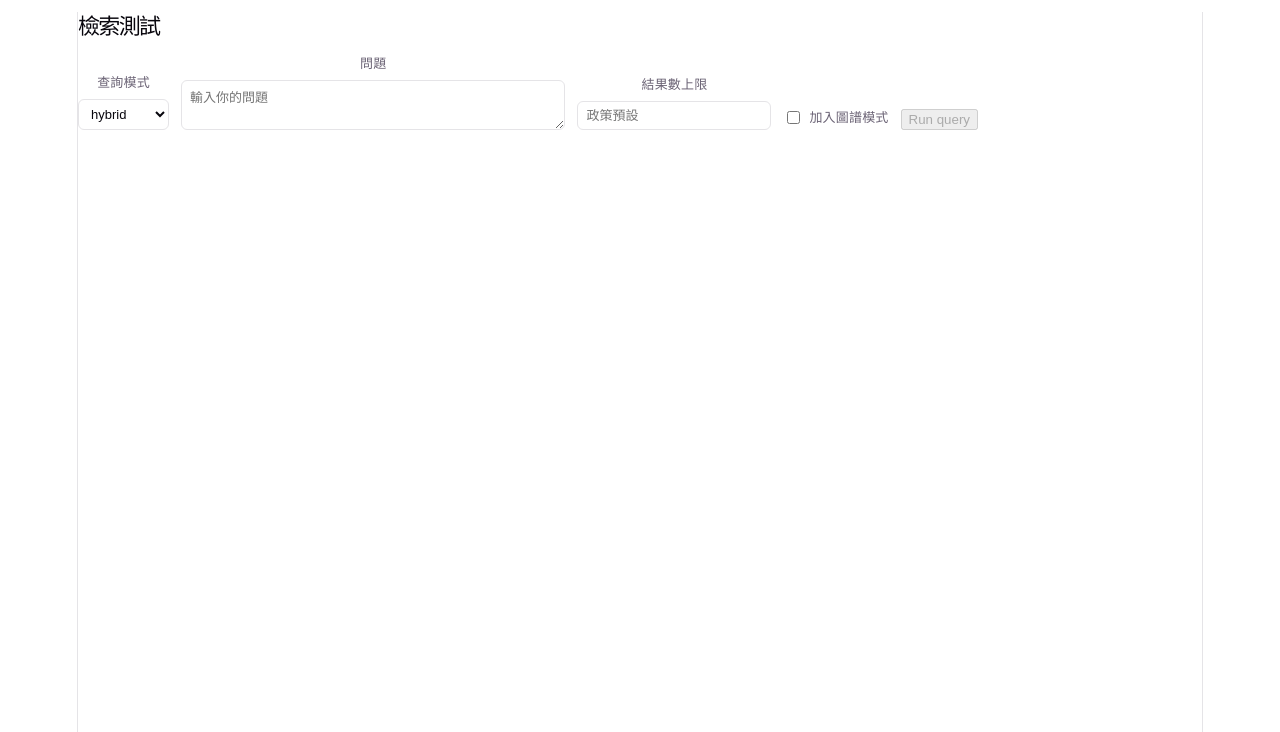
Test: Playground › renders a degraded result (warnings, no rows) as warnings, not an empty state
Type "slow" into the text box labelled "問題". click: (373, 105)
box: [181,80,565,130]
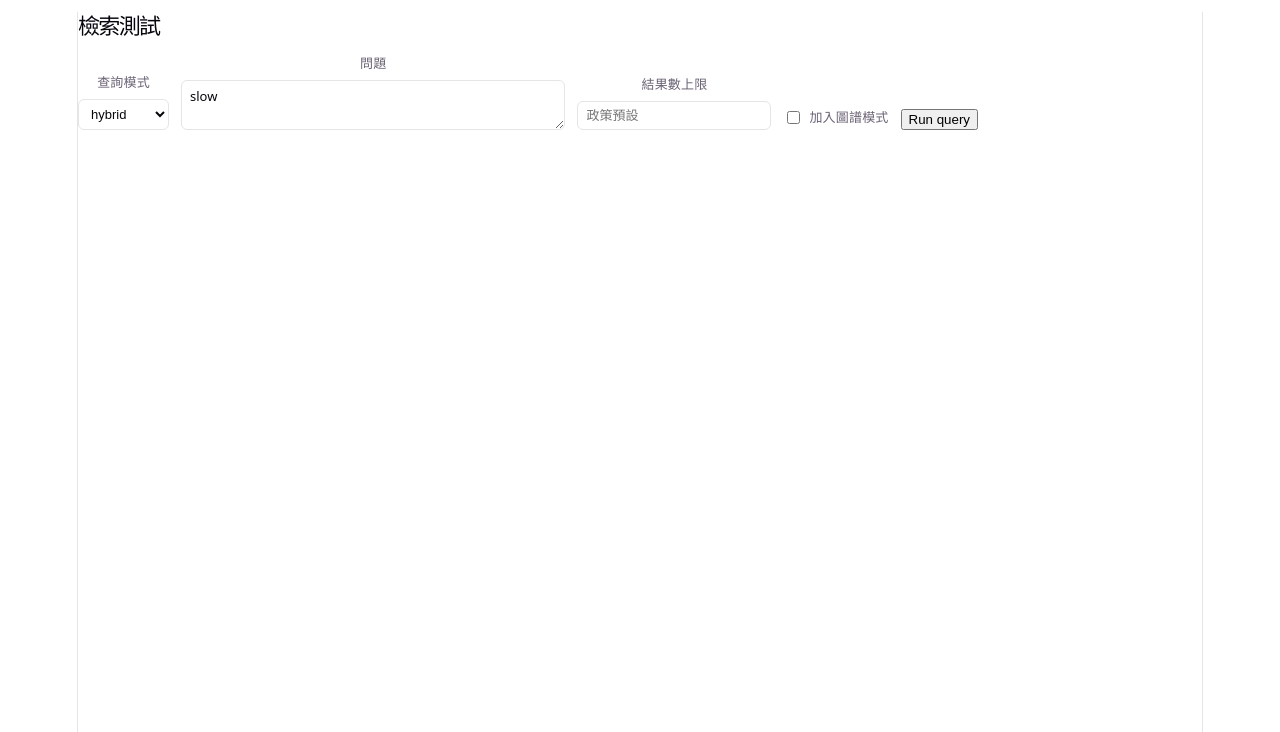
Click the button "Run query". click: (939, 120)
box: [900,109,978,130]
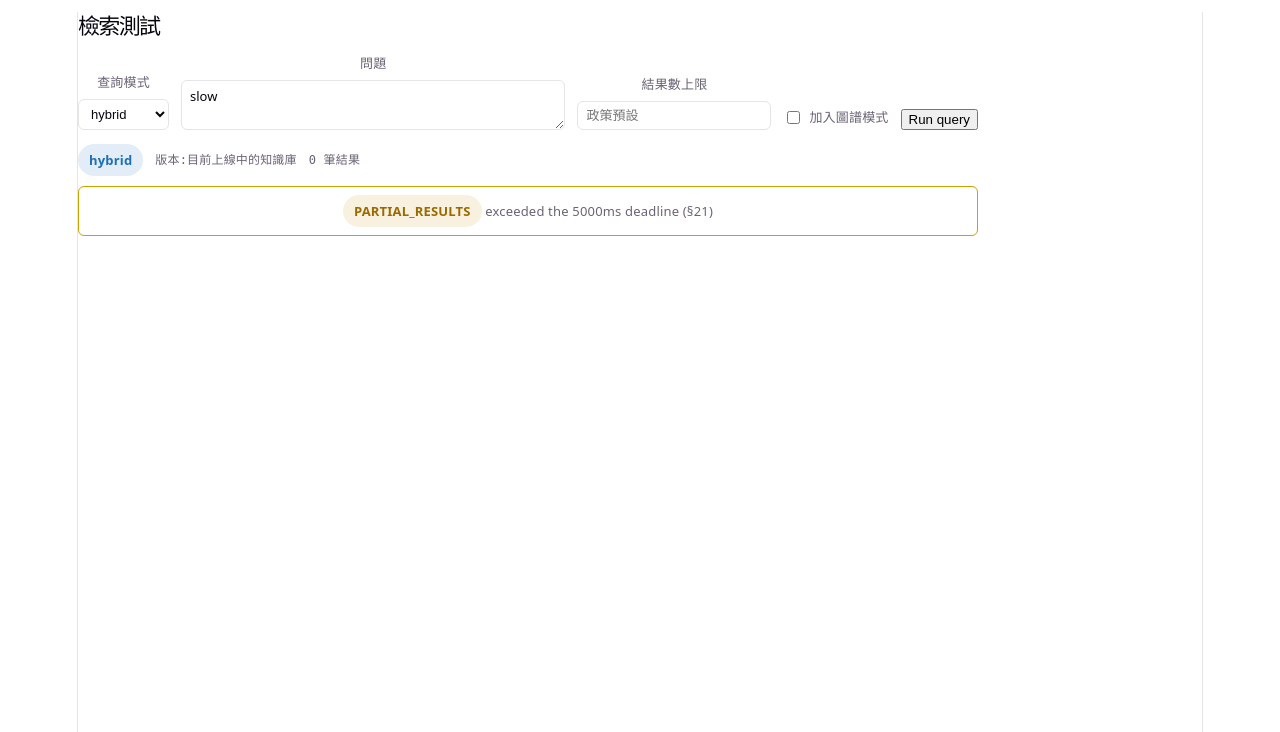
Now the text "PARTIAL_RESULTS" is shown, box [343,195,482,227]
Now the list item "PARTIAL_RESULTS exceeded the 5000ms deadline (§21)" is shown, box [343,195,713,227]
